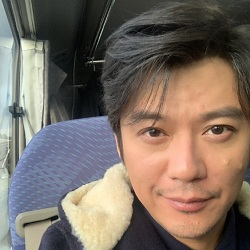unmask: (112, 79, 248, 240)
